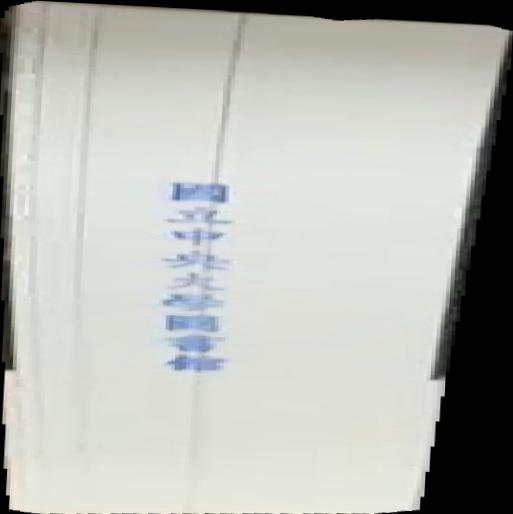backward: (1, 1, 513, 514)
